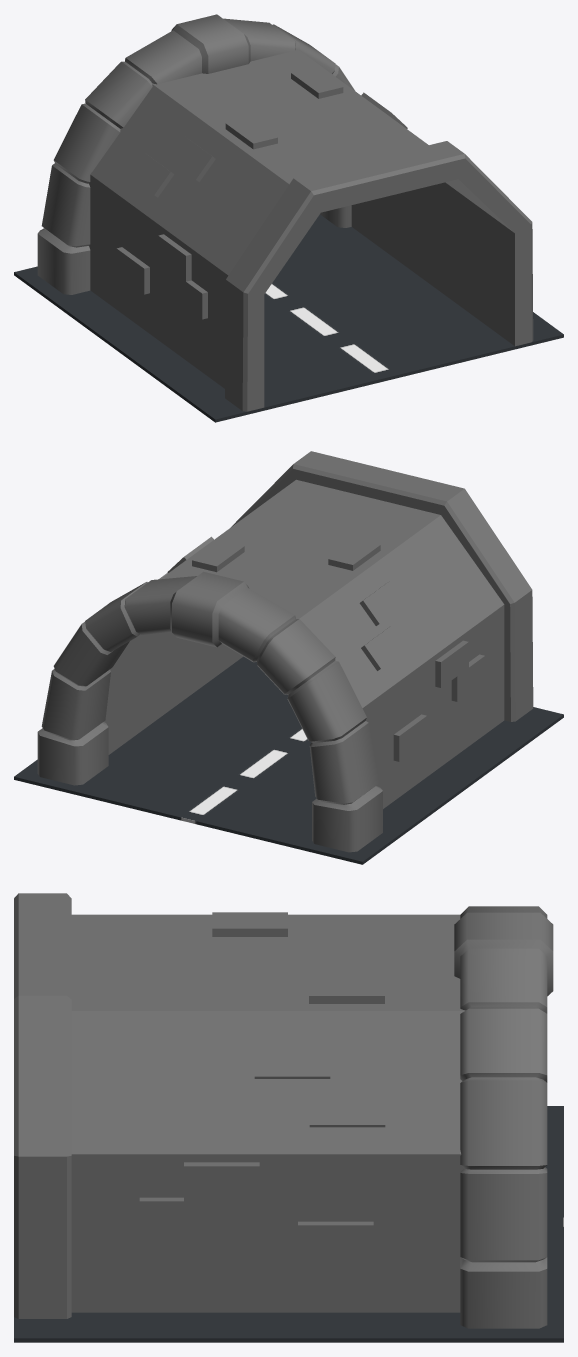
The model's file is kartkids_base_trk_420_tun_closed_entry_1x1.gltf.
The picture shows the model from 3 angles, top to bottom: view 1: azimuth 30°, elevation 25°; view 2: azimuth 150°, elevation 25°; view 3: azimuth 270°, elevation 25°; orthographic projection. The views are drawn at different scales.
Parts seen in each view (by area): view 1: kartkids_base_trk_420_tun_closed_entry_1x1, kartkids_base_trk_010_rd_straight_1x1.014; view 2: kartkids_base_trk_420_tun_closed_entry_1x1, kartkids_base_trk_010_rd_straight_1x1.014; view 3: kartkids_base_trk_420_tun_closed_entry_1x1, kartkids_base_trk_010_rd_straight_1x1.014.
Boxes of the visible parts, bbox=[...] form: kartkids_base_trk_420_tun_closed_entry_1x1: bbox=[37, 14, 533, 411]; kartkids_base_trk_010_rd_straight_1x1.014: bbox=[14, 214, 563, 422]; kartkids_base_trk_420_tun_closed_entry_1x1: bbox=[37, 451, 533, 852]; kartkids_base_trk_010_rd_straight_1x1.014: bbox=[14, 656, 563, 864]; kartkids_base_trk_420_tun_closed_entry_1x1: bbox=[14, 893, 553, 1328]; kartkids_base_trk_010_rd_straight_1x1.014: bbox=[14, 1106, 563, 1342].
Size of the model in its own units: 10 by 6.02 by 10.
Materials: 2 (1 with a texture image).
